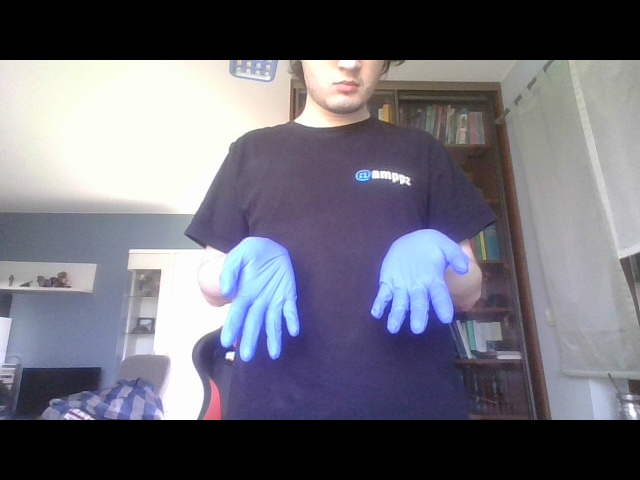glove: (370, 226, 471, 336), (219, 235, 302, 364)
